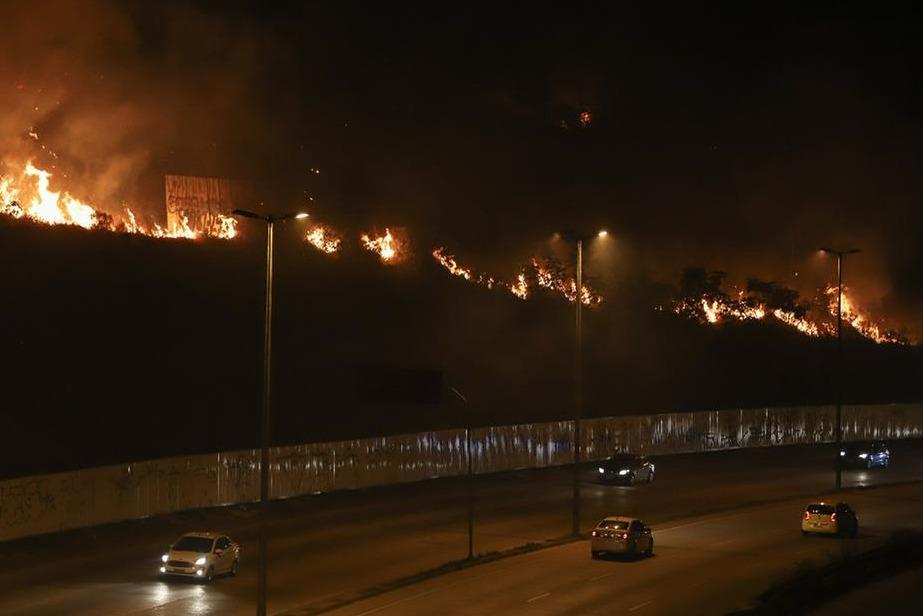fire: (33, 178, 97, 223), (157, 217, 198, 243), (365, 227, 398, 255)
